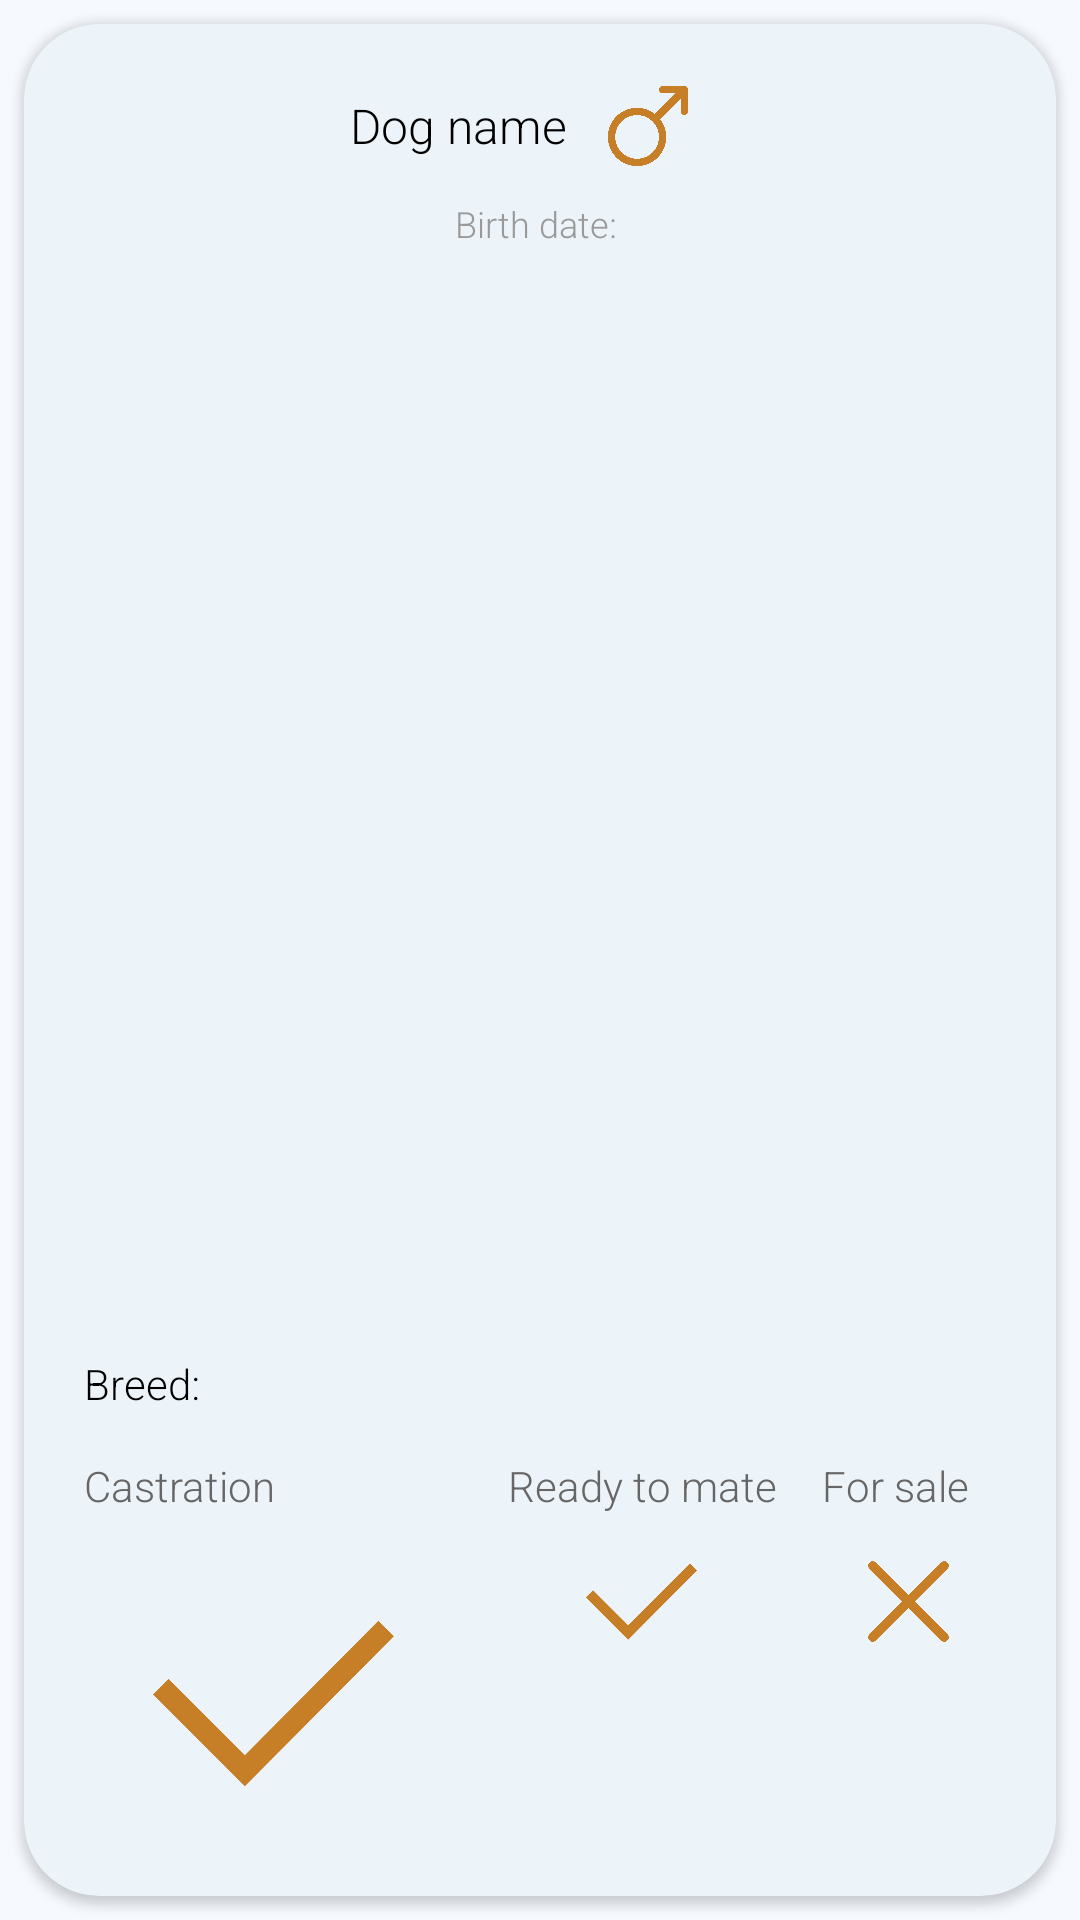

Icon bounding boxes for this 1080x1920 phone screenshot, format (x1,y1,x2,y2):
checked: (586,1564,697,1640), (153,1621,394,1786)
male: (608,86,688,166)
unchecked: (868,1561,949,1642)
